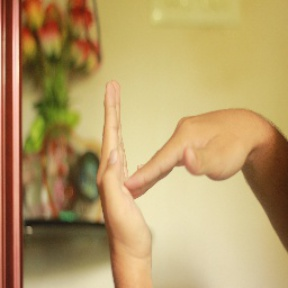Z: (86, 68, 258, 261)
